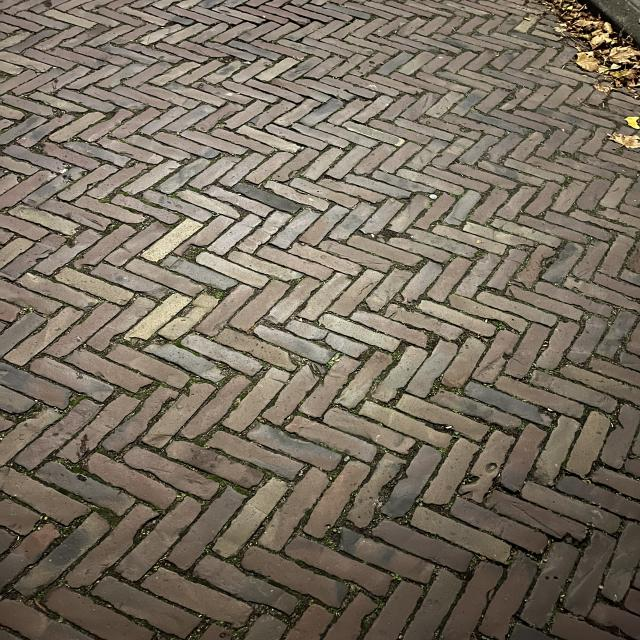leaves: (547, 1, 639, 153)
pavement: (0, 6, 552, 637), (561, 114, 640, 640)
